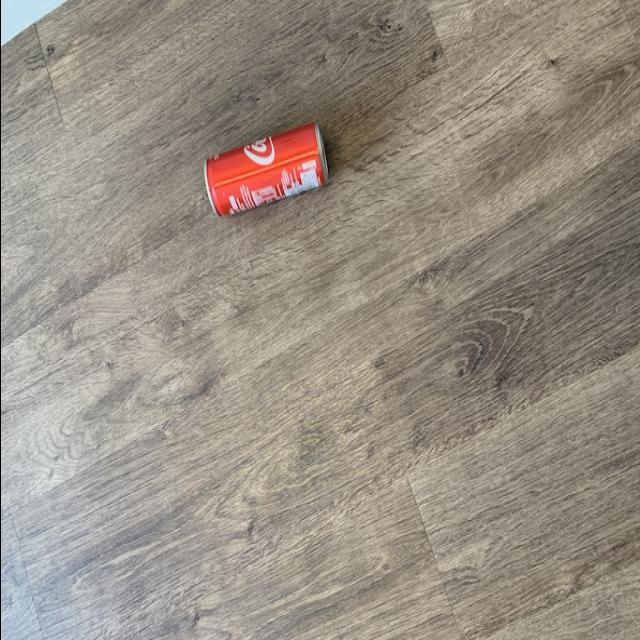Aluminum Can: (182, 115, 336, 237)
